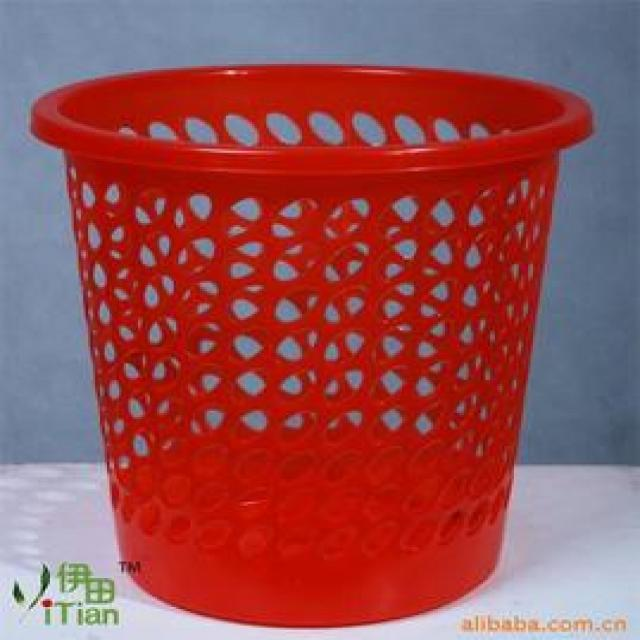Dustbin: (24, 58, 598, 636)
